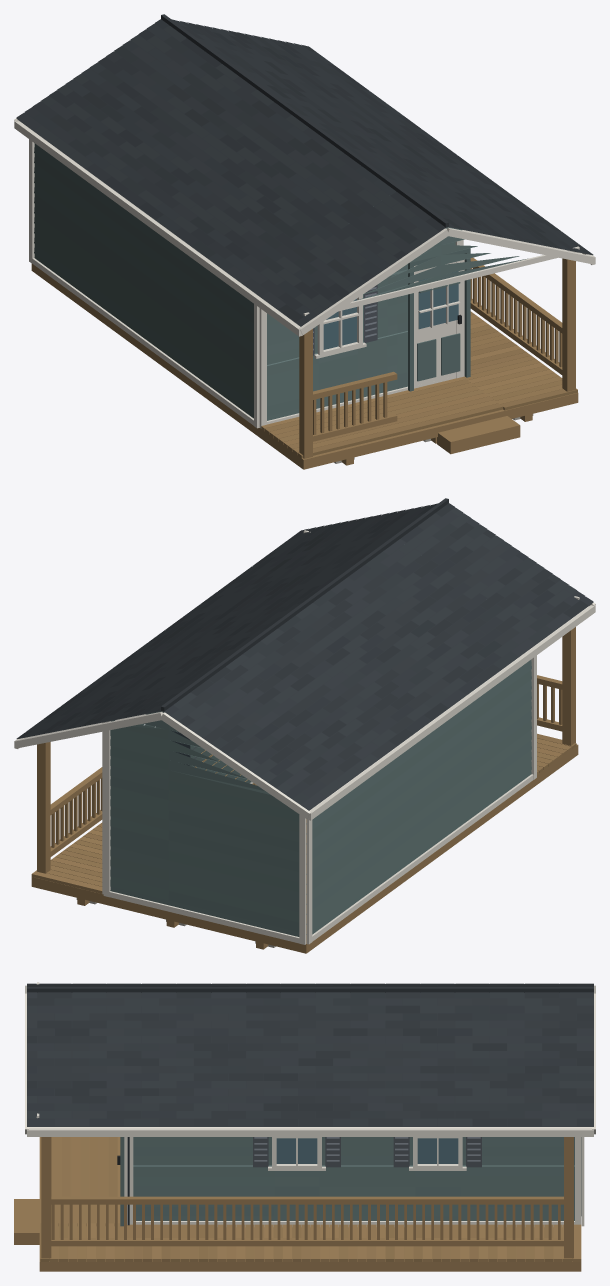
The model's file is 10-deluxe-porch-shutters.glb.
3 renders of one model, top to bottom at view 1: azimuth 30°, elevation 25°; view 2: azimuth 150°, elevation 25°; view 3: azimuth 270°, elevation 25°, orthographic.
Visible parts, largest first — view 1: Main roof, left wall, Porch decking, columns and rails, front wall, front wall entry, Floor platform and skids, front porch gable, front wall window, Louvered window shutters; view 2: Main roof, rear wall, left wall, Porch decking, columns and rails, Floor platform and skids, right wall; view 3: Main roof, Porch decking, columns and rails, right wall, Floor platform and skids, right wall window, Louvered window shutters, front wall entry.
Boxes of the visible parts, left/top/right/bottom form: Main roof: left=14, top=14, right=595, bottom=336; left wall: left=29, top=139, right=259, bottom=428; Porch decking, columns and rails: left=260, top=257, right=577, bottom=458; front wall: left=259, top=206, right=462, bottom=428; front wall entry: left=408, top=248, right=470, bottom=391; Floor platform and skids: left=31, top=263, right=578, bottom=469; front porch gable: left=303, top=227, right=579, bottom=315; front wall window: left=314, top=294, right=366, bottom=358; Louvered window shutters: left=313, top=284, right=377, bottom=355; Main roof: left=14, top=498, right=595, bottom=820; rear wall: left=103, top=711, right=306, bottom=944; left wall: left=306, top=655, right=536, bottom=944; Porch decking, columns and rails: left=31, top=627, right=576, bottom=893; Floor platform and skids: left=31, top=744, right=578, bottom=953; right wall: left=102, top=722, right=252, bottom=894; Main roof: left=25, top=983, right=595, bottom=1136; Porch decking, columns and rails: left=14, top=1137, right=581, bottom=1261; right wall: left=129, top=1137, right=581, bottom=1226; Floor platform and skids: left=39, top=1137, right=581, bottom=1271; right wall window: left=268, top=1137, right=466, bottom=1170; Louvered window shutters: left=253, top=1137, right=481, bottom=1167; front wall entry: left=117, top=1137, right=129, bottom=1226.
Size of the model in its own units: 4.61 by 3.36 by 7.86.
